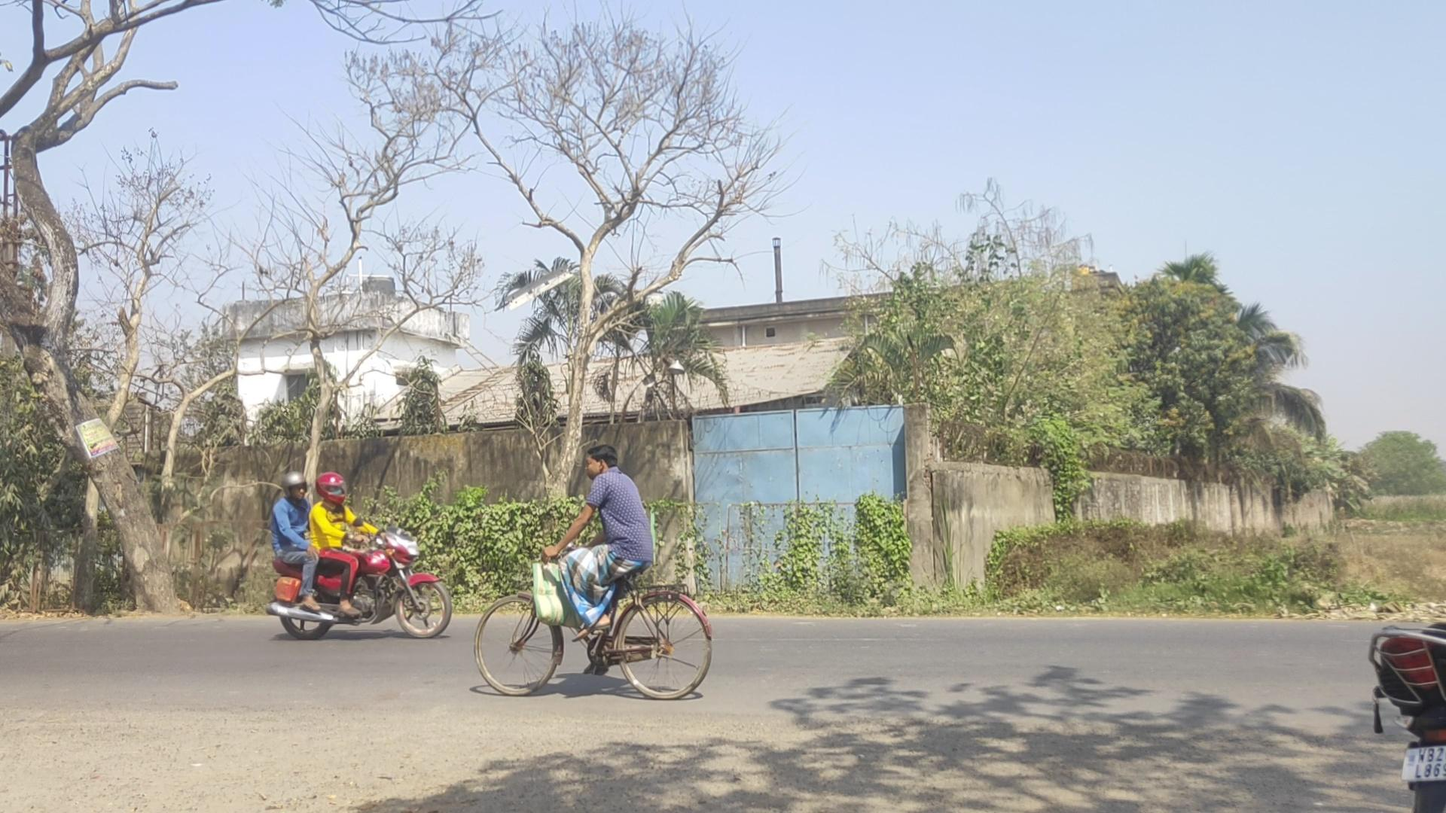bike: (474, 444, 714, 702), (264, 470, 453, 640)
